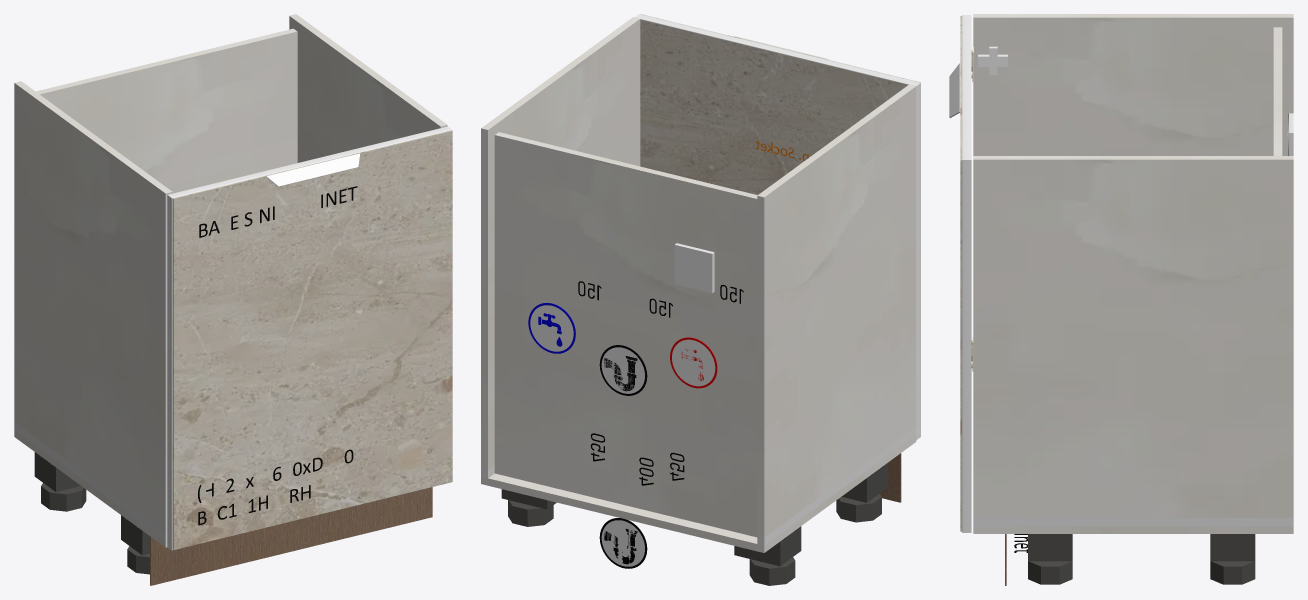
The model's file is BSC1HS_RH_EH (H720xW600xD560).glb.
The picture shows the model from 3 angles, left to right: view 1: azimuth 30°, elevation 25°; view 2: azimuth 150°, elevation 25°; view 3: azimuth 270°, elevation 25°; orthographic projection. The views are drawn at different scales.
Size of what is drawn, in the model's own units: 0.6 by 0.82 by 0.6.
Materials: 16 (3 with a texture image).
